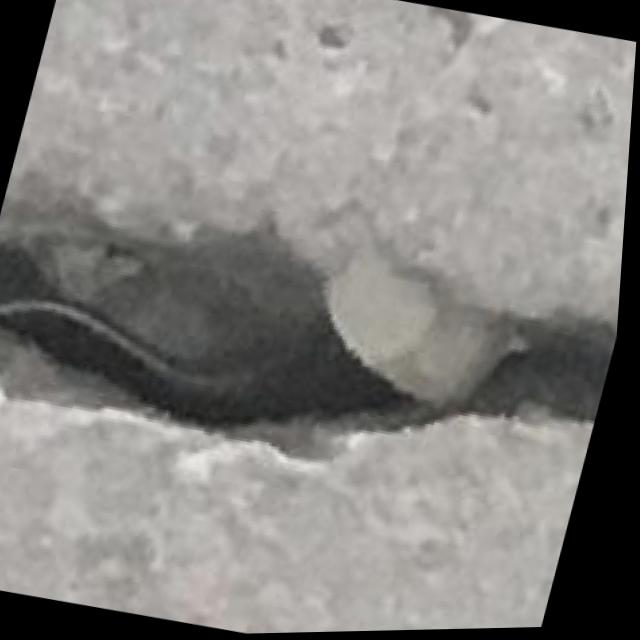Crack: (0, 133, 632, 539)
